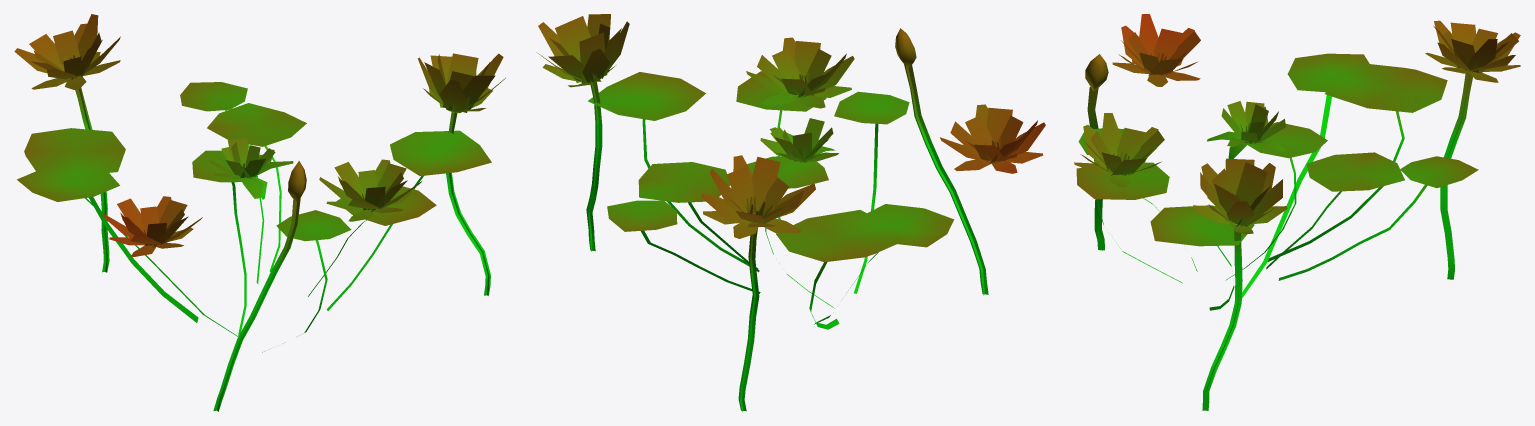
Rendered from Var7_LOD2.fbx.
3 renders of one model, left to right at view 1: azimuth 30°, elevation 25°; view 2: azimuth 150°, elevation 25°; view 3: azimuth 270°, elevation 25°, orthographic. The views are drawn at different scales.
Visible parts, largest first — view 1: _7d68_Var7_LOD2; view 2: _7d68_Var7_LOD2; view 3: _7d68_Var7_LOD2.
Part boxes in pixels (x1,y1,x2,y2): _7d68_Var7_LOD2: [14, 14, 505, 411]; _7d68_Var7_LOD2: [536, 14, 1045, 411]; _7d68_Var7_LOD2: [1074, 14, 1520, 410].
Size of the model in its own units: 124 by 67.51 by 110.
